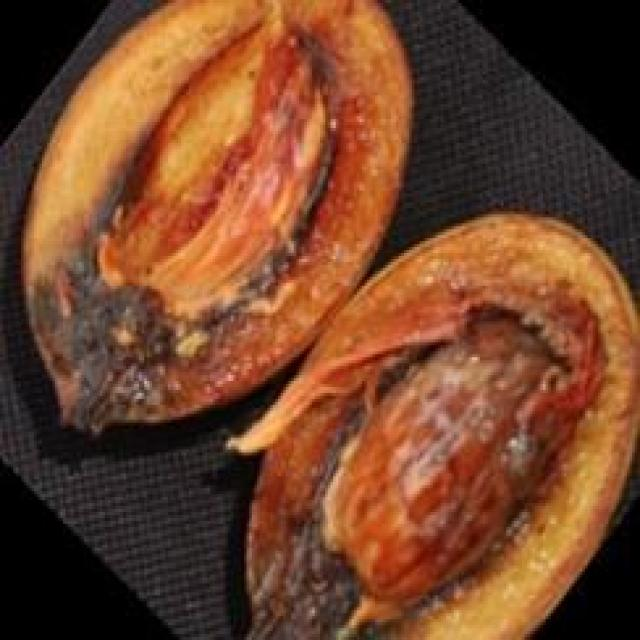damaged: (18, 0, 417, 444), (226, 211, 637, 637)
